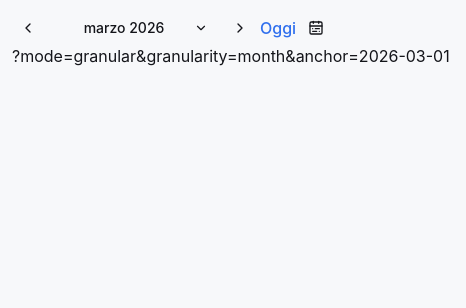
it: PeriodNavigator › modalità 'Max' (allowAll) › 'Max' dal menu in vista granulare torna alla modalità senza filtro
Click the button "marzo 2026": (134,28) [48,12,220,44]
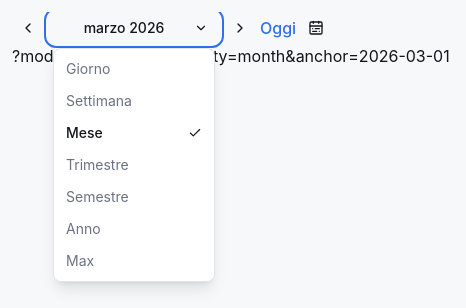
Click the menu item "Max": (134,261) [58,245,210,277]
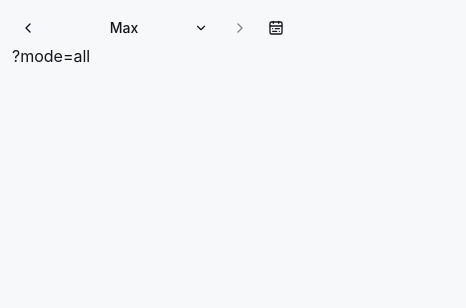
Expected: the text with test id "location" shows "mode=all", [12,46,90,66]
Expected: the text "Max" is shown, [110,19,138,36]
